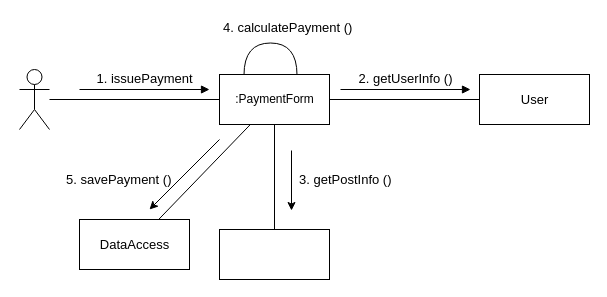
Image size: 607x297. Some labels were removed from this diagram. Here are the shapes that lost their labels. From the top down, the centre of each, then its label:
the point at 34,99: Admin
the point at 274,254: Post
